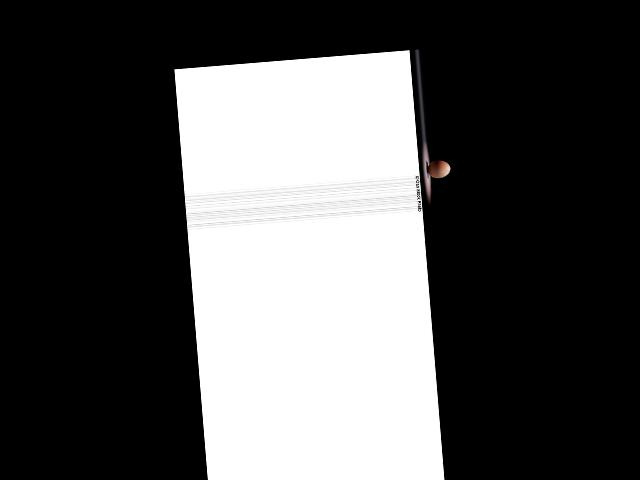egg: (426, 159, 450, 179)
